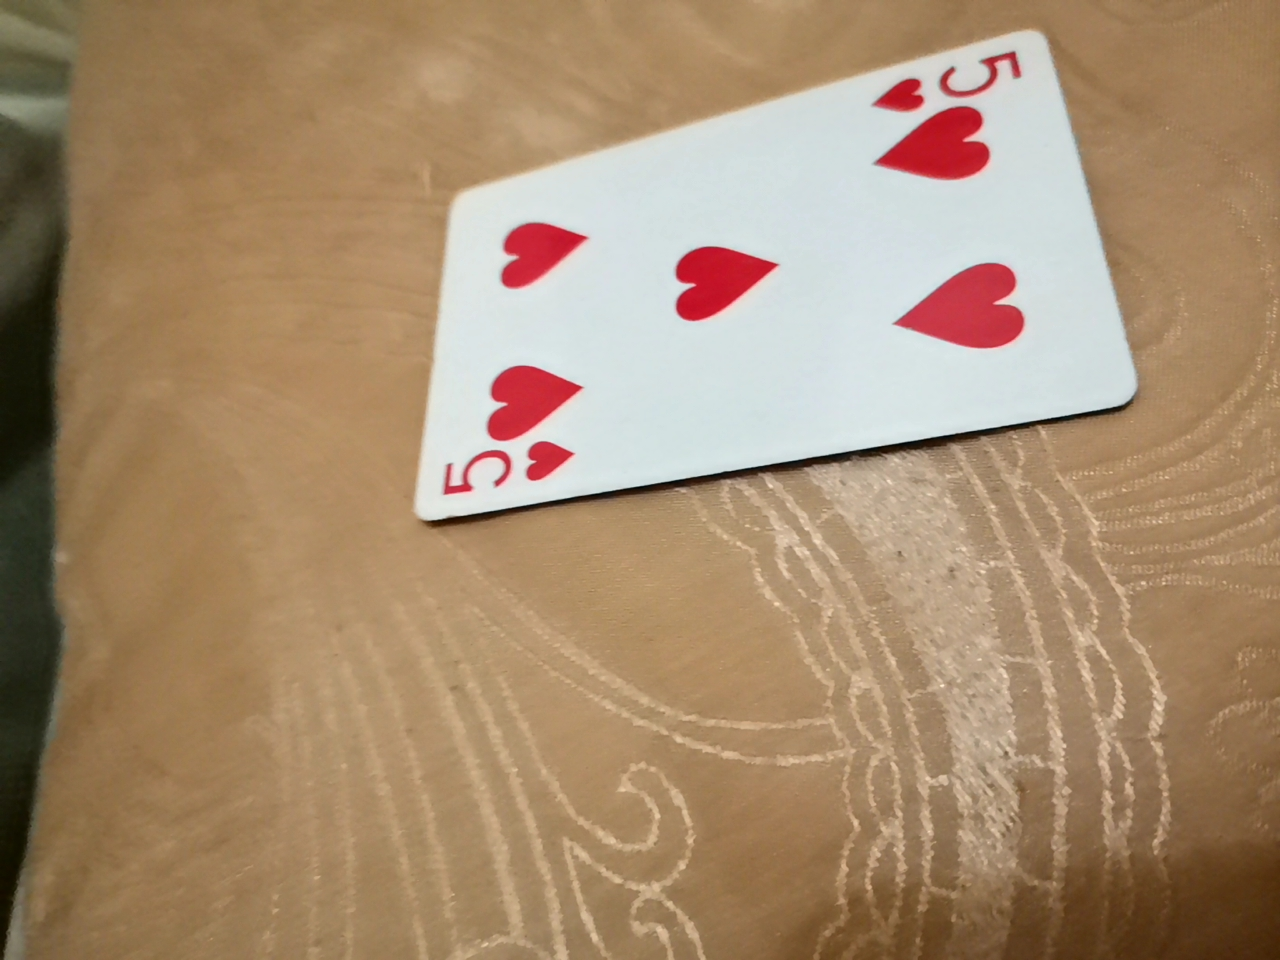hx 5: (409, 34, 1146, 529)
